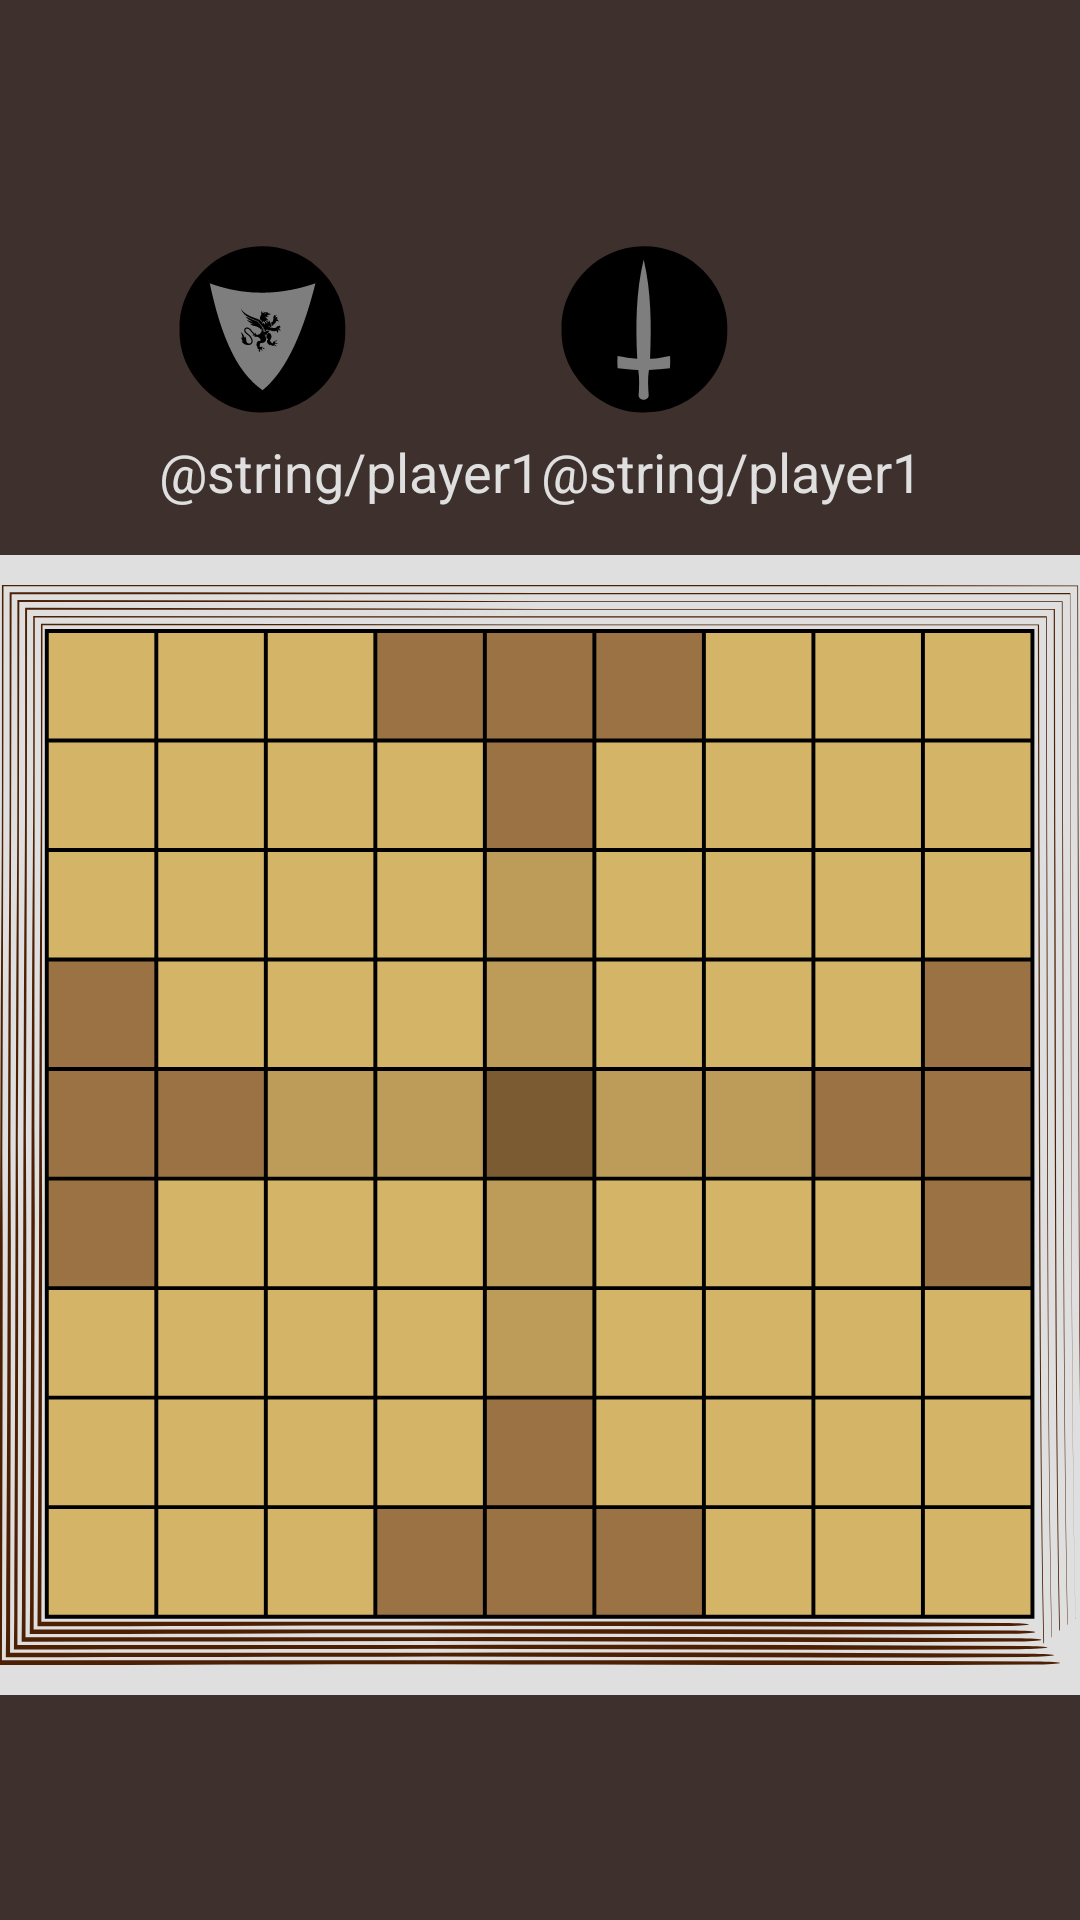

Locate icon controls on the screen. Image size 1080 x 1920, boxes as [x1, y1, x2, y2].
attacker: [561, 246, 727, 413]
defender: [179, 246, 345, 413]
